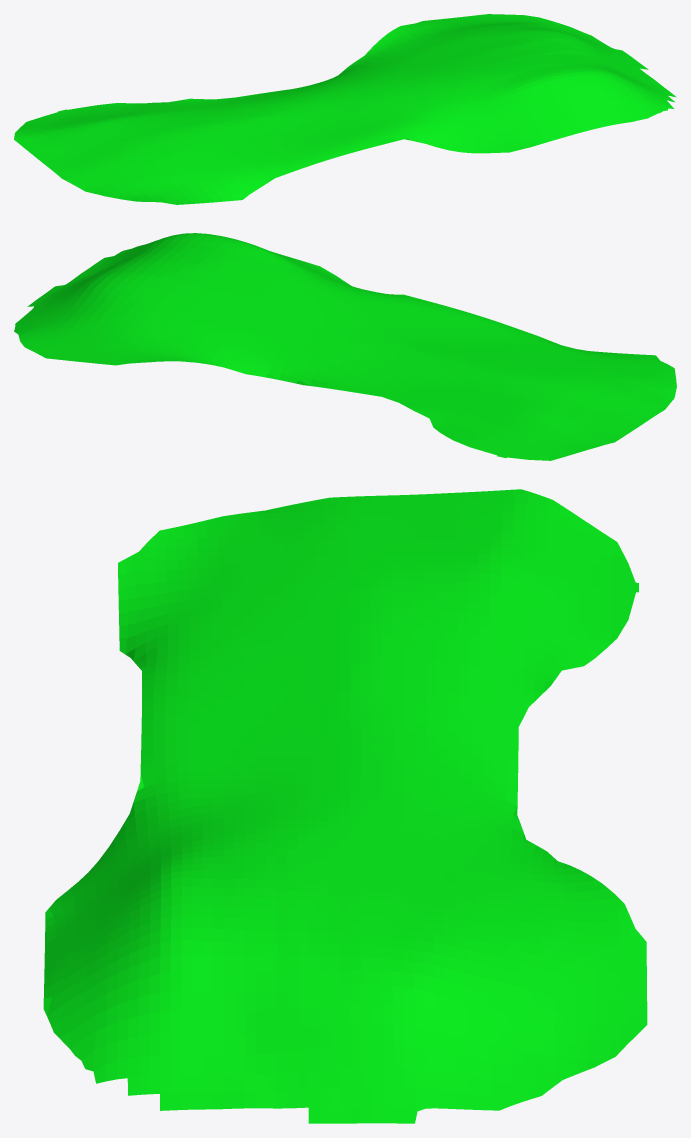
The model's file is hole1.glb.
The picture shows the model from 3 angles, top to bottom: view 1: azimuth 30°, elevation 25°; view 2: azimuth 150°, elevation 25°; view 3: azimuth 270°, elevation 25°; orthographic projection. The views are drawn at different scales.
Parts seen in each view (by area): view 1: Plane; view 2: Plane; view 3: Plane.
Boxes of the visible parts, x1,y1,x2,y2 form: Plane: (14,14,676,204); Plane: (14,233,676,460); Plane: (43,489,647,1123).
Size of the model in its own units: 75.47 by 6.31 by 33.91.
